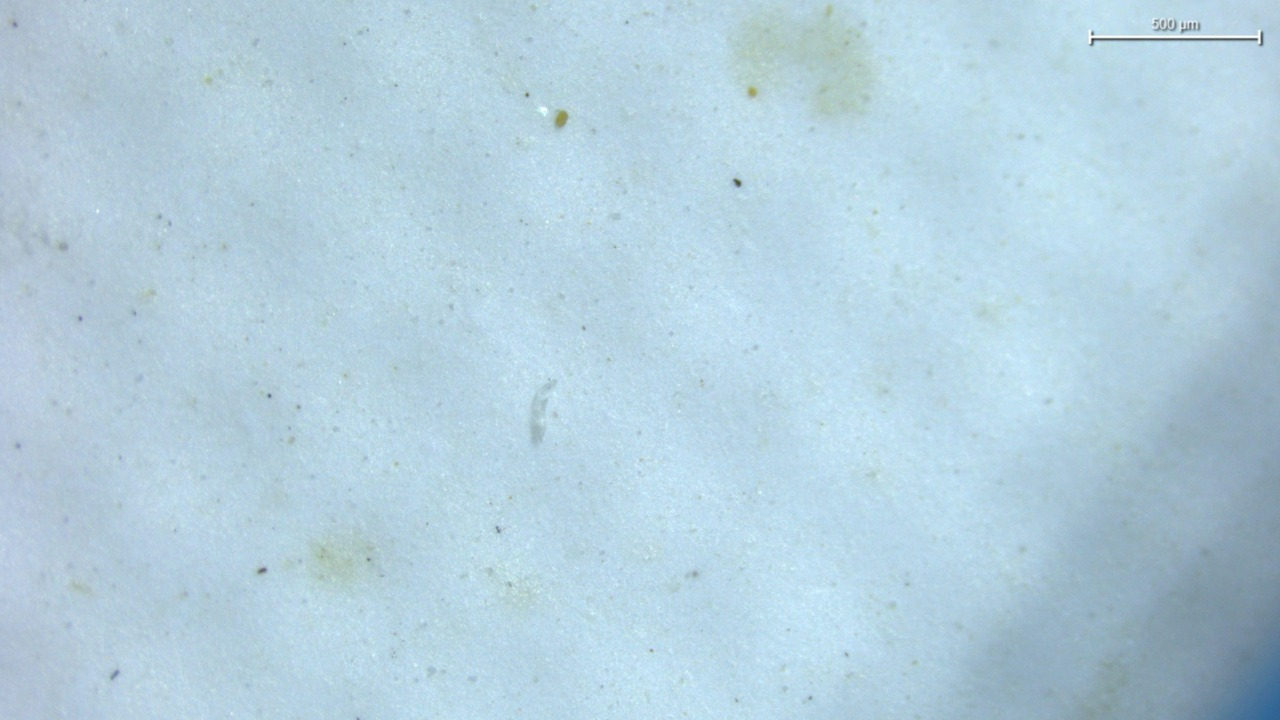microplastic_fragment: (529, 379, 557, 446)
